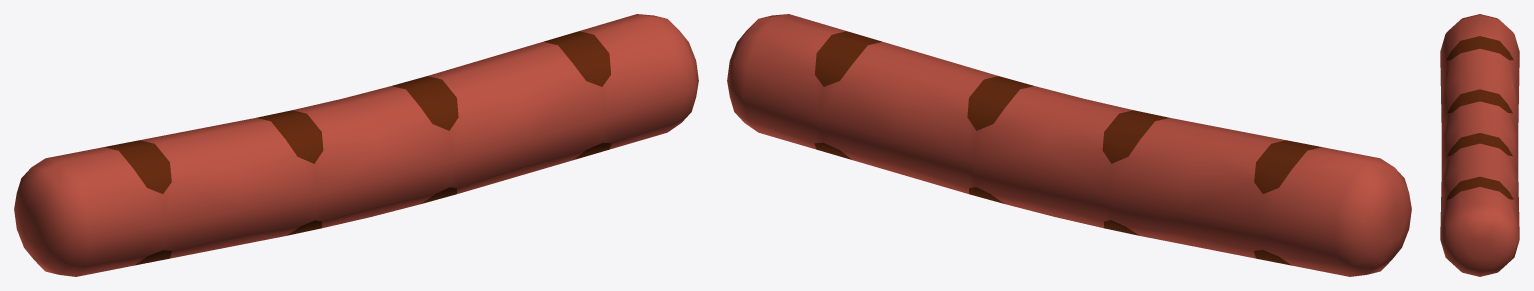
File: Sausage_gril.001.fbx
3 views of the same model, side by side, from view 1: azimuth 30°, elevation 25°; view 2: azimuth 150°, elevation 25°; view 3: azimuth 270°, elevation 25° (orthographic). The views are drawn at different scales.
Visible parts, largest first — view 1: Sausage_gril.001; view 2: Sausage_gril.001; view 3: Sausage_gril.001.
Part boxes in pixels (x1,y1,x2,y2): Sausage_gril.001: (14,14,698,276); Sausage_gril.001: (727,14,1411,276); Sausage_gril.001: (1440,14,1519,276).
Size of the model in its own units: 160 by 25.88 by 28.84.
